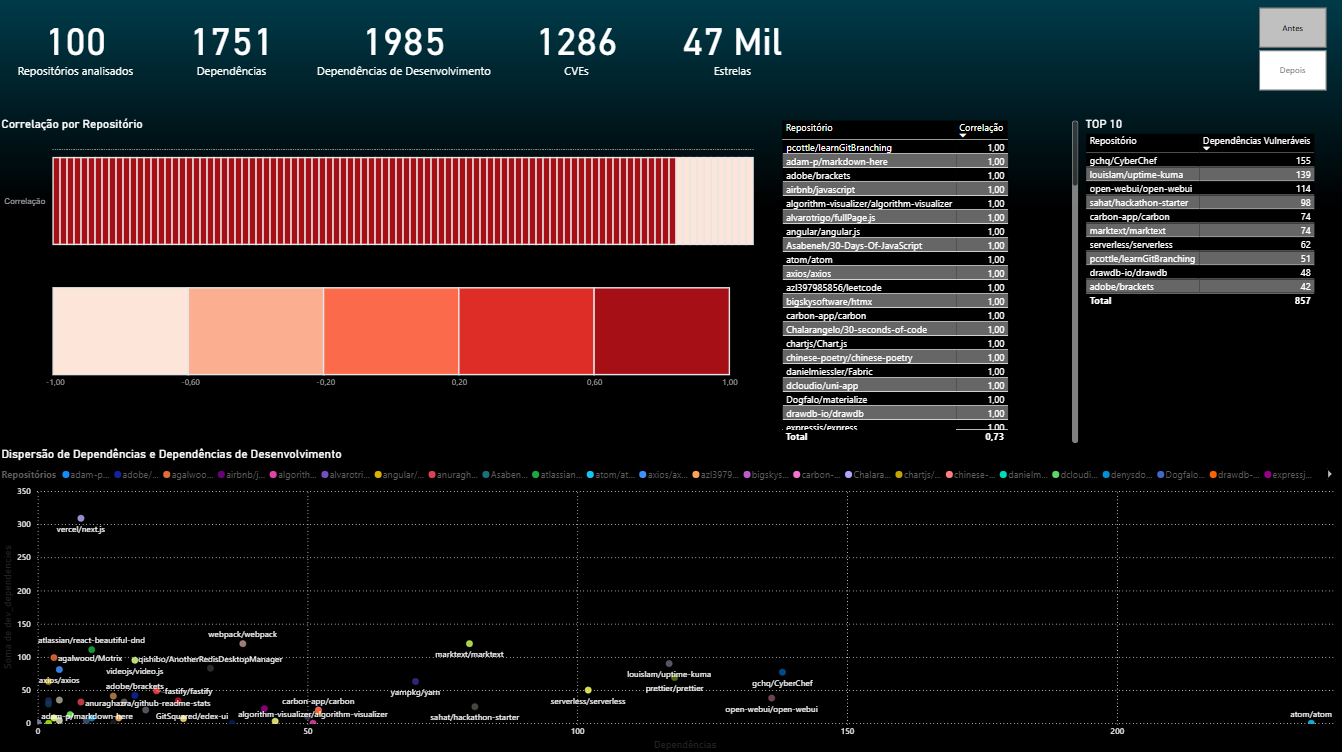

The dashboard page shown, as its layout file describes it:
{"tool":"powerbi","page":{"name":"Página 1","canvas":[2300,1100],"ordinal":0},"visuals":[{"type":"card","fields":{"Values":["CountNonNull(merged_queries.repo)"]},"box":[188.6,0,221.4,145.7],"z":0},{"type":"slicer","fields":{"Values":["merged_queries.Index"]},"box":[1964.3,0,145.7,145.7],"z":1000},{"type":"card","fields":{"Values":["Sum(merged_queries.dependencies)"]},"box":[410,0,224.3,145.7],"z":2000},{"type":"card","fields":{"Values":["Sum(merged_queries.dev_dependencies)"]},"box":[634.3,0,268.6,145.7],"z":3000},{"type":"card","fields":{"Values":["Sum(merged_queries.cves)"]},"box":[902.9,0,224.3,145.7],"z":4000},{"type":"card","fields":{"Values":["Median(merged_queries.stars)"]},"box":[1127.1,0,221.4,145.7],"z":5000},{"type":"scatterChart","title":"Dispersão de Dependências e Dependências de Desenvolvimento","fields":{"Category":["merged_queries.repo"],"X":["Sum(merged_queries.dependencies)"],"Series":["merged_queries.repo"],"Y":["Sum(merged_queries.dev_dependencies)"]},"box":[188,648,1922,438],"z":6000},{"type":"tableEx","title":"TOP 10","fields":{"Values":["merged_queries.repo","Sum(merged_queries.vulnerable_deps)"]},"box":[1737.1,177.1,372.9,284.3],"z":7000},{"type":"tableEx","fields":{"Values":["after_dependencies_cve_summary.repo","after_dependencies_cve_summary.Correlacao"]},"box":[1302.9,177.1,434.3,471.4],"z":7001},{"type":"TableHeatMap1443716069308","fields":{"Category":["after_dependencies_cve_summary.repo"],"Y":["after_dependencies_cve_summary.Correlacao"]},"box":[188.6,177.1,1114.3,471.4],"z":7002}]}

Visuals, with their boxes on the page's 2300x1100 design canvas (x1, y1, x2, y2). These are canvas units, not pixel positions in the 1342x752 screenshot, which may show the page scaled, cropped or inside an application window:
card - CountNonNull(merged_queries.repo): select_region(189, 0, 410, 146)
slicer - merged_queries.Index: select_region(1964, 0, 2110, 146)
card - Sum(merged_queries.dependencies): select_region(410, 0, 634, 146)
card - Sum(merged_queries.dev_dependencies): select_region(634, 0, 903, 146)
card - Sum(merged_queries.cves): select_region(903, 0, 1127, 146)
card - Median(merged_queries.stars): select_region(1127, 0, 1348, 146)
"Dispersão de Dependências e Dependências de Desenvolvimento" scatterChart: select_region(188, 648, 2110, 1086)
"TOP 10" tableEx: select_region(1737, 177, 2110, 461)
tableEx - after_dependencies_cve_summary.repo x after_dependencies_cve_summary.Correlacao: select_region(1303, 177, 1737, 648)
TableHeatMap1443716069308 - after_dependencies_cve_summary.repo x after_dependencies_cve_summary.Correlacao: select_region(189, 177, 1303, 648)
